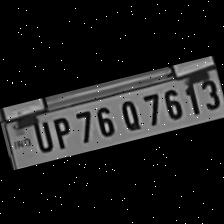1: (179, 78, 203, 117)
3: (194, 74, 222, 113)
6: (88, 100, 117, 139), (156, 83, 185, 122)
7: (68, 104, 96, 144), (136, 88, 164, 128)
P: (44, 110, 76, 150)
Q: (111, 93, 144, 133)
U: (26, 116, 54, 154)
